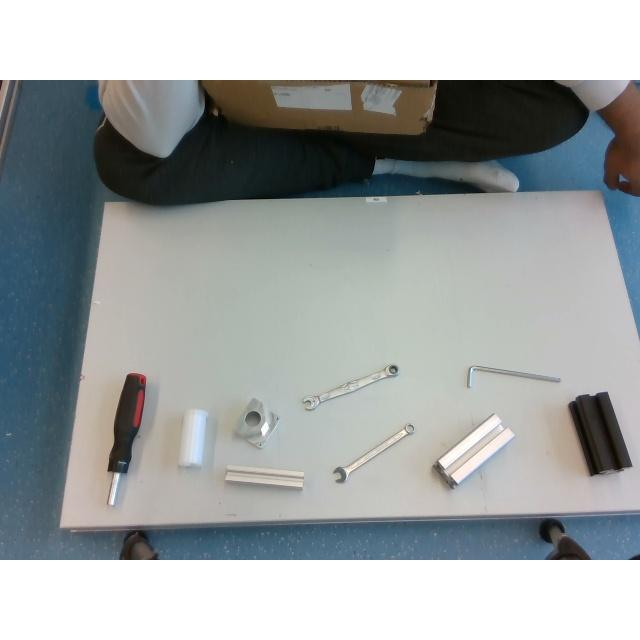F20_20_G: (225, 464, 303, 488)
S40_40_B: (569, 392, 631, 474)
S40_40_G: (434, 412, 514, 488)
Spacer: (179, 409, 207, 467)
Wrench: (302, 364, 398, 410)
